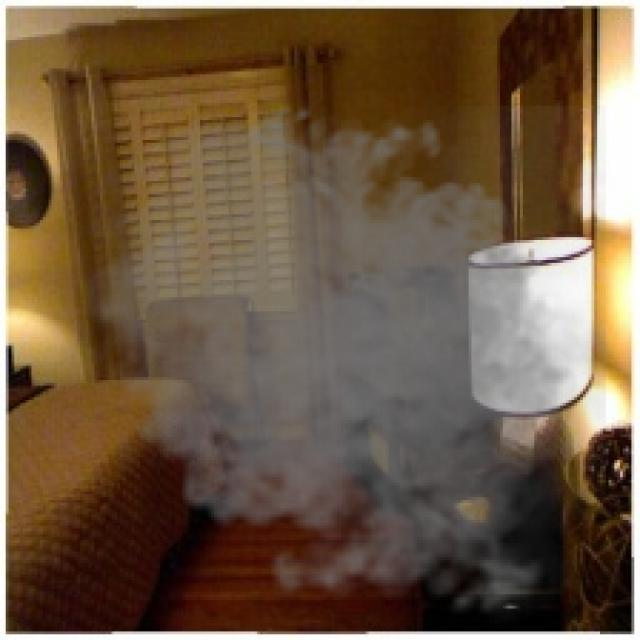smoke: (60, 94, 606, 629)
